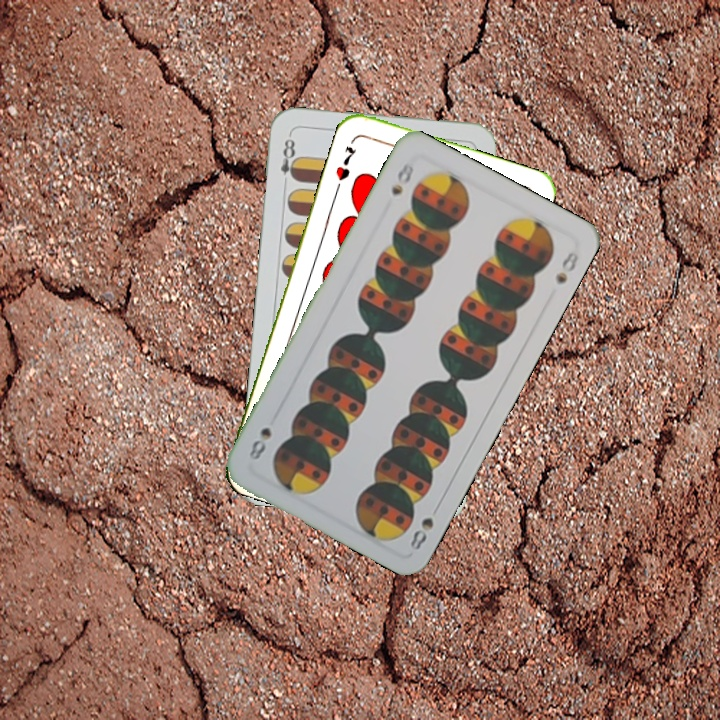E8: (276, 131, 301, 183)
H7: (331, 142, 359, 183)
S8: (406, 499, 443, 553), (387, 158, 417, 198)
